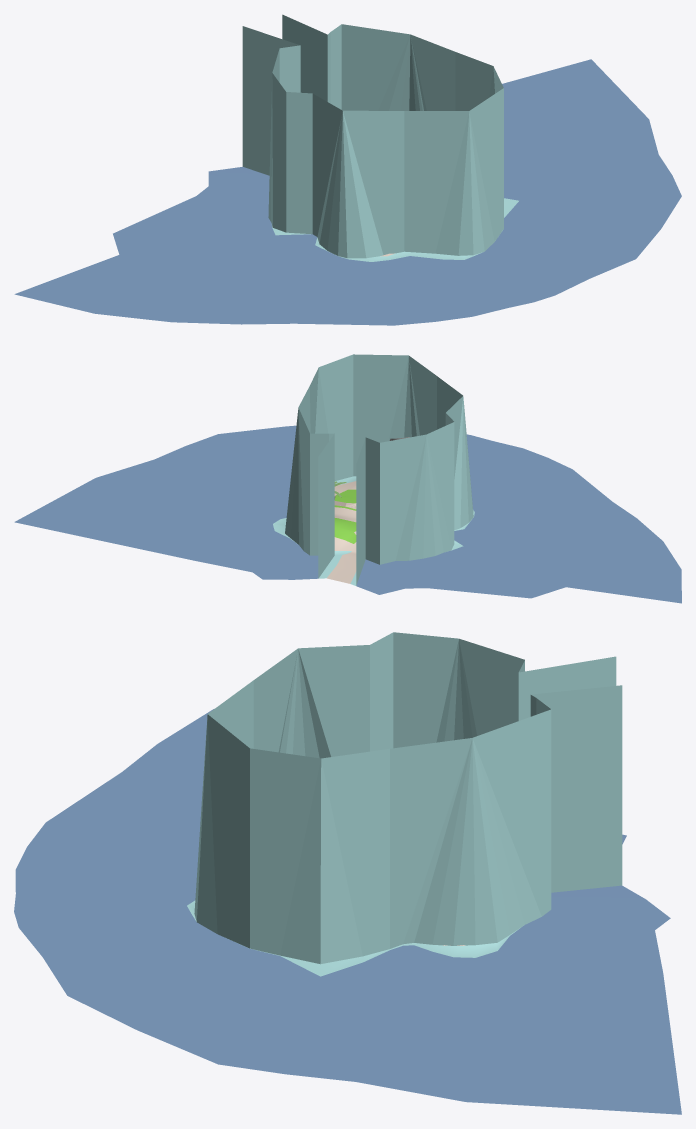
The picture shows the model from 3 angles, top to bottom: view 1: azimuth 30°, elevation 25°; view 2: azimuth 150°, elevation 25°; view 3: azimuth 270°, elevation 25°; orthographic projection. The views are drawn at different scales.
Visible parts, largest first — view 1: level0, simple; view 2: level0, simple; view 3: simple, level0.
Boxes of the visible parts, <box> form: level0: <box>14,59,681,325</box>; simple: <box>242,14,503,258</box>; level0: <box>14,425,681,603</box>; simple: <box>285,354,473,585</box>; simple: <box>194,632,622,964</box>; level0: <box>14,709,681,1114</box>.
Size of the model in its own units: 123 by 24.8 by 74.48.
